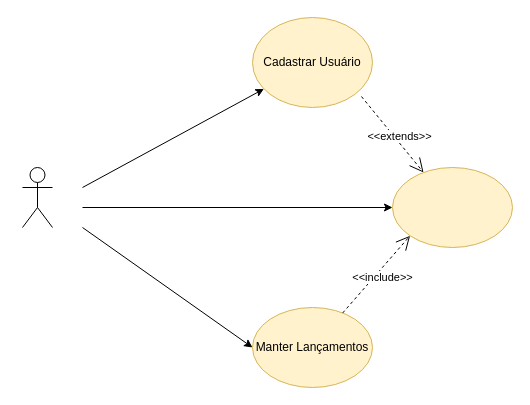
This 530x405 diagram has some shape labels left out. The shapes that lost their labels are listed below. From the top down, each one's centre as x and y in pixels, then its label:
At (37,197): "Usuário".
At (452,207): "Fazer Login".
